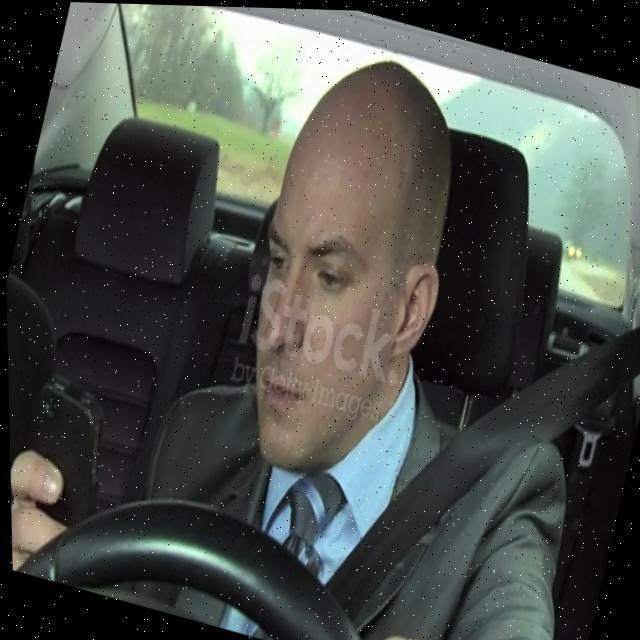PhoneCall: (6, 371, 120, 538)
